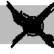not correct: (4, 0, 54, 49)
